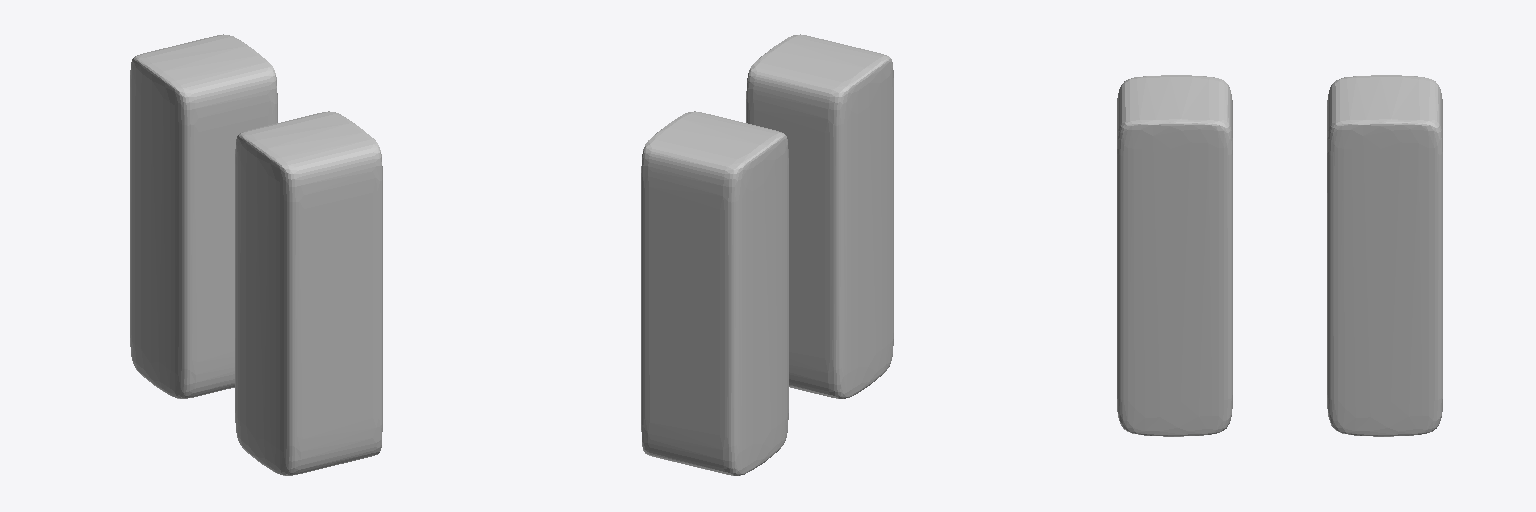
The model's file is Pause.obj.
The picture shows the model from 3 angles: view 1: azimuth 30°, elevation 25°; view 2: azimuth 150°, elevation 25°; view 3: azimuth 270°, elevation 25°; orthographic projection.
Parts seen in each view (by area): view 1: Cube.001_Cube, Cube; view 2: Cube, Cube.001_Cube; view 3: Cube.001_Cube, Cube.
Part boxes in pixels (x1,y1,x2,y2): Cube.001_Cube: (235, 111, 382, 475); Cube: (130, 34, 277, 398); Cube: (641, 111, 788, 475); Cube.001_Cube: (746, 34, 893, 398); Cube.001_Cube: (1117, 75, 1232, 436); Cube: (1327, 75, 1442, 436).
Size of the model in its own units: 1.99 by 5.98 by 5.6.